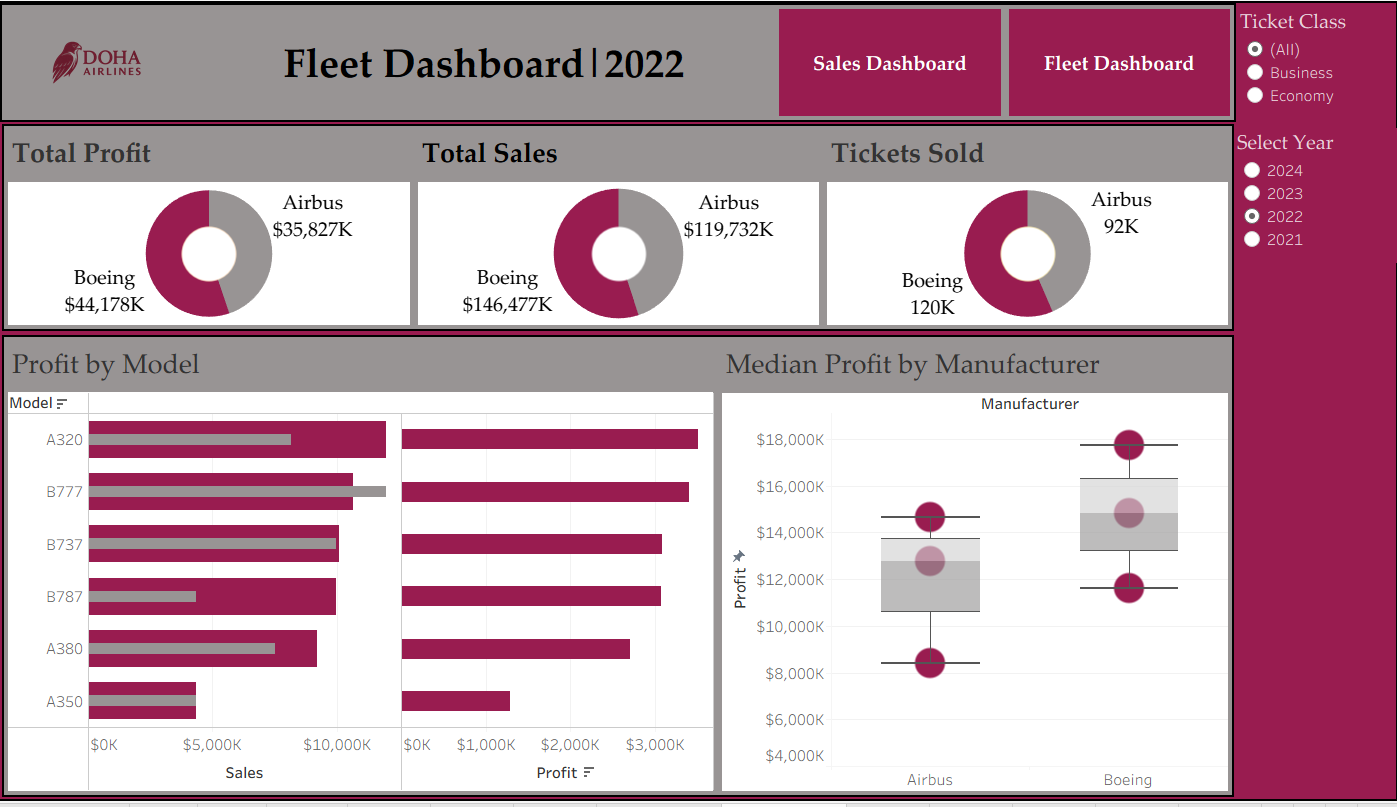

This screenshot's page, from the dashboard's own definition file:
{"tool":"tableau","page":{"name":"Dashboard 2","canvas":[1400,800],"ordinal":1},"visuals":[{"type":"filter","title":"Chart 2.1","param":"[federated.024ssg60ckmh1614bqlsv06hhw7s].[none:Ticket_Class:nk]","box":[1238,2,160,111]},{"type":"image","param":"C:/Users/karaa/Downloads/ChatGPT Image Jul 20, 2025, 03_23_59 PM.png","box":[4,4,191,115]},{"type":"text","box":[195,4,582,115]},{"type":"dashboard-object","box":[777,4,230,115]},{"type":"dashboard-object","box":[1007,4,229,115]},{"type":"worksheet","title":"Chart 2.1","mark":"Pie","cols":["Calculation_821625490472697860","Calculation_821625490472792070"],"box":[6,125,410,203]},{"type":"worksheet","title":"Chart 2.2","mark":"Pie","cols":["Calculation_821625490475835400","Calculation_821625490475864074"],"box":[416,125,409,203]},{"type":"worksheet","title":"Chart 2.3","mark":"Pie","cols":["Calculation_821625490481971212","Calculation_821625490481987598"],"box":[825,125,409,203]},{"type":"parameter","param":"[Parameters].[Parameter 1]","box":[1239,127,160,135]},{"type":"worksheet","title":"Chart 2.4","mark":"Bar","rows":["Model"],"cols":["Calculation_1483091684773498886","Calculation_1483091684773879815","Calculation_1483091684805287952"],"box":[6,336,714,458]},{"type":"worksheet","title":"Chart 2.5","mark":"Circle","rows":["Profit"],"cols":["Manufacturer"],"box":[720,336,514,458]}]}

Visuals, with their boxes in screenshot pixels (x1, y1, x2, y2), scaled from the page's 1400x800 canvas onto the 1397x807 screenshot:
"Chart 2.1" filter: select_region(1235, 2, 1395, 114)
image: select_region(4, 4, 195, 120)
text: select_region(195, 4, 775, 120)
dashboard-object: select_region(775, 4, 1005, 120)
dashboard-object: select_region(1005, 4, 1233, 120)
"Chart 2.1" worksheet (Pie marks): select_region(6, 126, 415, 331)
"Chart 2.2" worksheet (Pie marks): select_region(415, 126, 823, 331)
"Chart 2.3" worksheet (Pie marks): select_region(823, 126, 1231, 331)
parameter: select_region(1236, 128, 1396, 264)
"Chart 2.4" worksheet (Bar marks): select_region(6, 339, 718, 801)
"Chart 2.5" worksheet (Circle marks): select_region(718, 339, 1231, 801)
